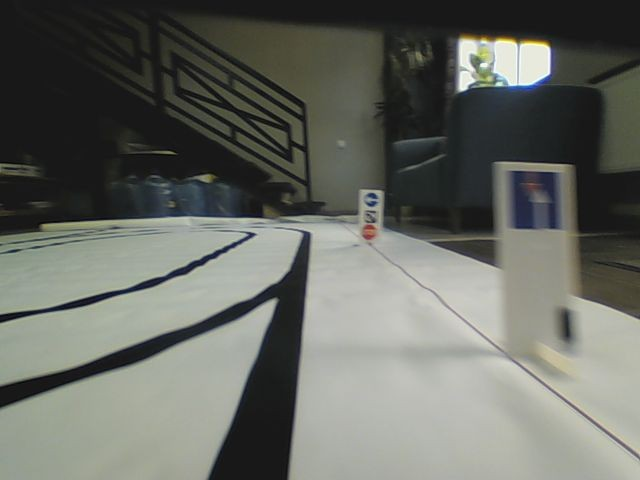priority_movement: (507, 169, 567, 233)
